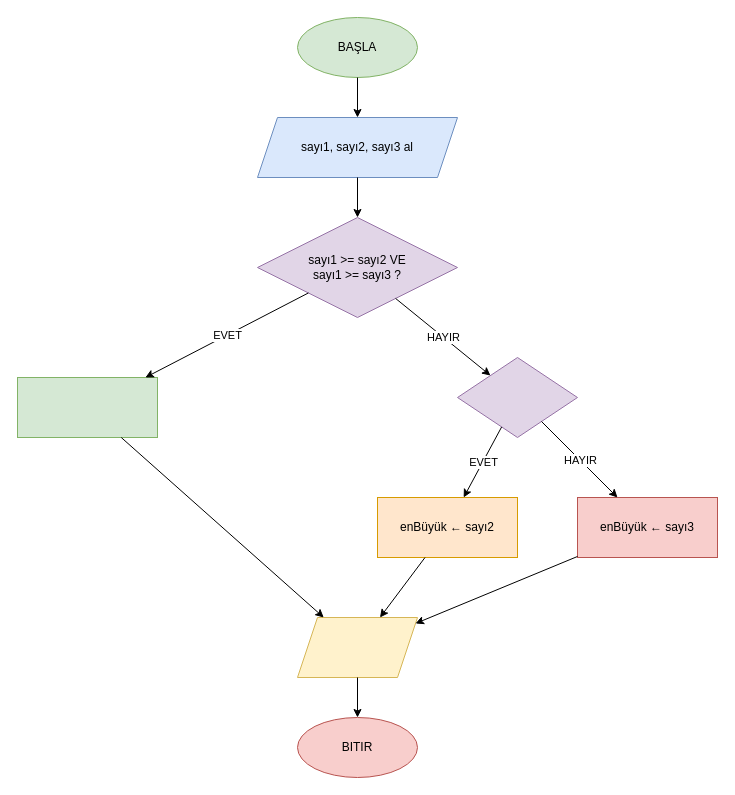
Image size: 735x795. Some labels were removed from this diagram. The shapes that lost their labels are listed below. From the top down, each one's centre as x and y in pixels, then its label:
the point at 87,407: enBüyük ← sayı1
the point at 517,397: sayı2 >= sayı3 ?
the point at 357,647: enBüyük göster
